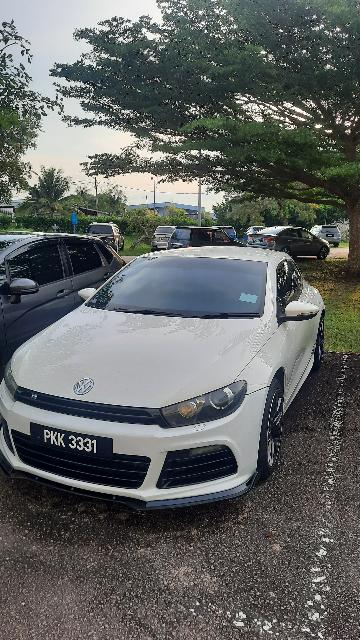License_Plate: (33, 422, 120, 466)
car: (1, 242, 337, 518)
